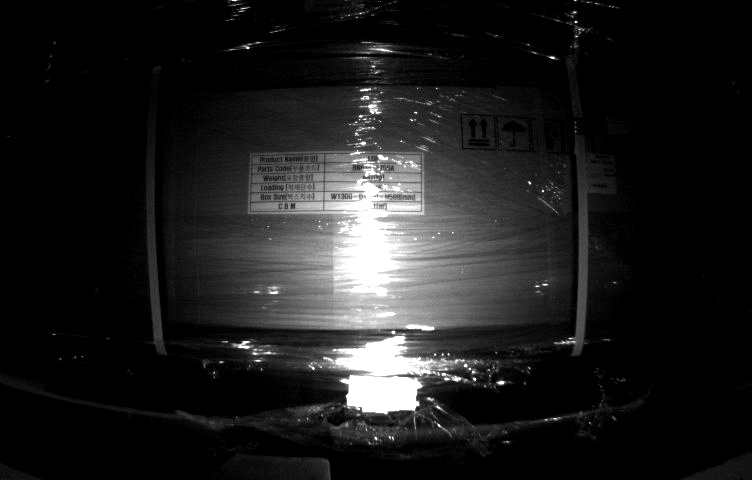True Barcode: (575, 152, 617, 195)
